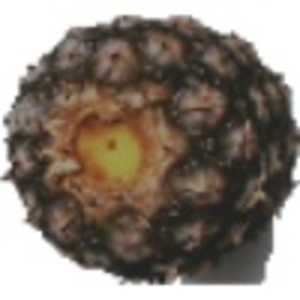abacaxi: (2, 7, 292, 276)
